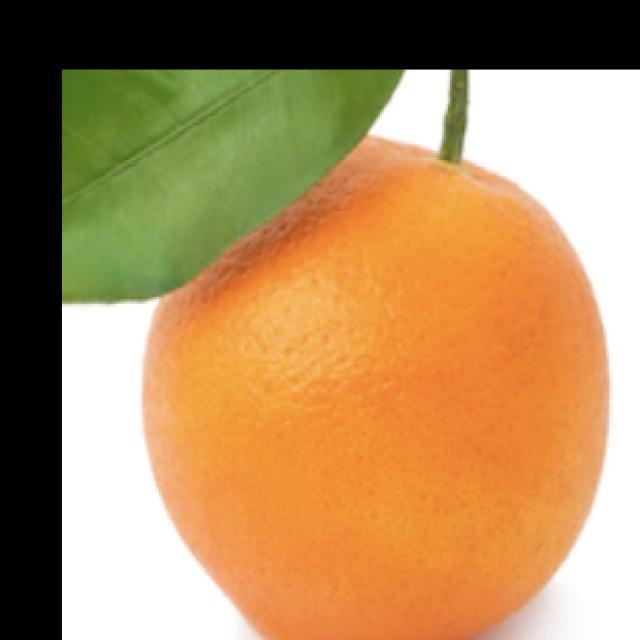Orange: (140, 132, 610, 639)
